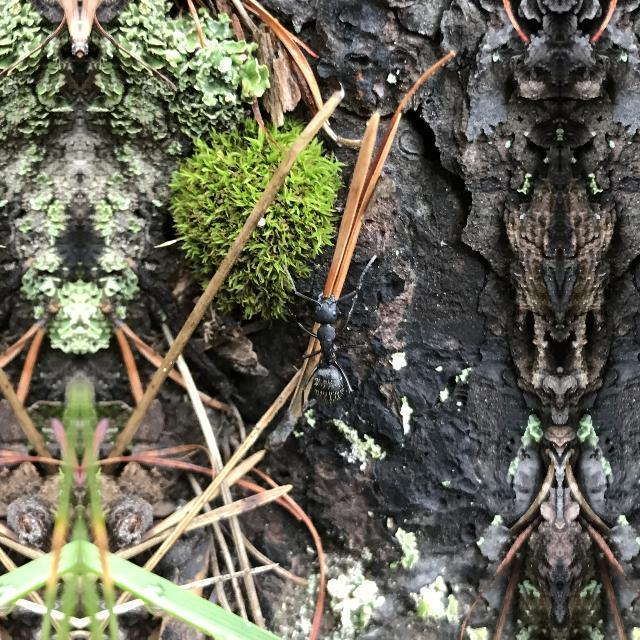Camponotus: (286, 282, 374, 410)
